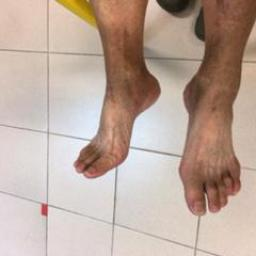Dorsal View -Both Feet-: (67, 28, 255, 218)
